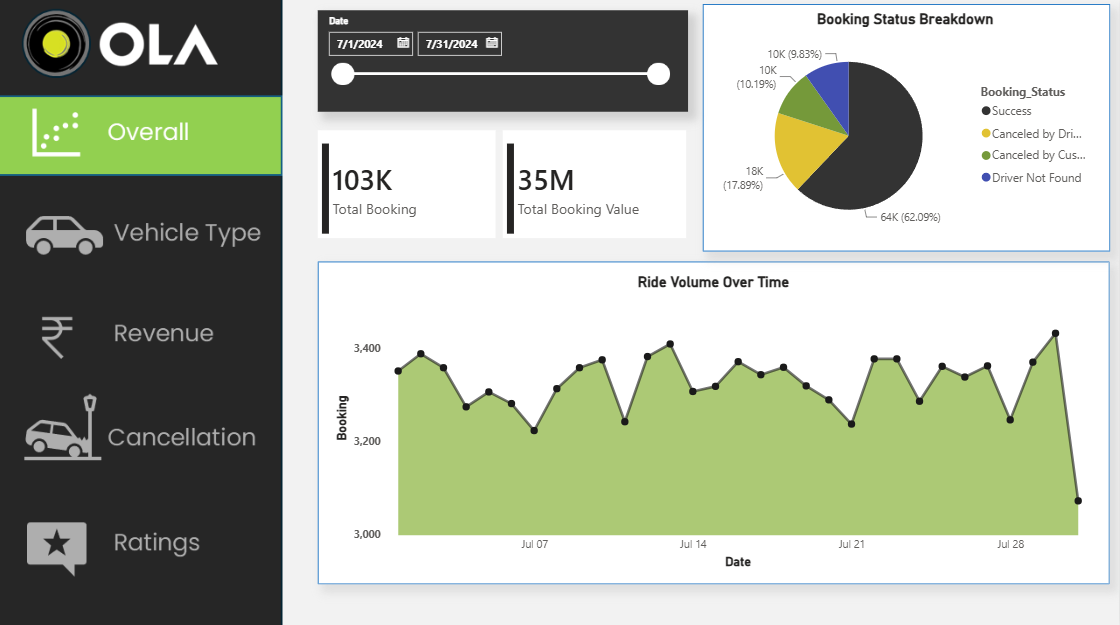

The page's visual inventory and layout, read from the dashboard file:
{"tool":"powerbi","page":{"name":"Overall","canvas":[1280,720],"ordinal":0},"visuals":[{"type":"actionButton","box":[0,220,325.7,94.3],"z":0},{"type":"actionButton","box":[0,342.9,325.7,90],"z":1000},{"type":"actionButton","box":[0,457.1,325.7,90],"z":2000},{"type":"actionButton","box":[0,578.6,325.7,90],"z":3000},{"type":"shape","box":[364,300,905,369],"z":4000},{"type":"lineChart","title":"Ride Volume Over Time","fields":{"Y":["CountNonNull(Bookings.Booking_ID)"],"Category":["Bookings.Date.Variation.Date Hierarchy.Year","Bookings.Date.Variation.Date Hierarchy.Quarter","Bookings.Date.Variation.Date Hierarchy.Month","Bookings.Date.Variation.Date Hierarchy.Day"]},"box":[378,313,876,343],"z":5000},{"type":"shape","box":[804.3,5.7,465.7,282.9],"z":6000},{"type":"pieChart","title":"Booking Status Breakdown","fields":{"Category":["Bookings.Booking_Status"],"Y":["Bookings.Count of booking Status"]},"box":[815.5,12.7,440,268.2],"z":7000},{"type":"slicer","fields":{"Values":["Bookings.Date"]},"box":[364.3,12.9,422.9,115.7],"z":8000},{"type":"cardVisual","fields":{"Data":["Bookings.Count of booking Status"]},"box":[363.6,149.6,203.1,123.5],"z":9000},{"type":"cardVisual","fields":{"Data":["Sum(Bookings.Booking_Value)"]},"box":[576.3,149.6,209.9,123.5],"z":10000}]}

Visuals, with their boxes on the page's 1280x720 design canvas (x1, y1, x2, y2). These are canvas units, not pixel positions in the 1120x625 screenshot, which may show the page scaled, cropped or inside an application window:
actionButton: x1=0, y1=220, x2=326, y2=314
actionButton: x1=0, y1=343, x2=326, y2=433
actionButton: x1=0, y1=457, x2=326, y2=547
actionButton: x1=0, y1=579, x2=326, y2=669
shape: x1=364, y1=300, x2=1269, y2=669
"Ride Volume Over Time" lineChart: x1=378, y1=313, x2=1254, y2=656
shape: x1=804, y1=6, x2=1270, y2=289
"Booking Status Breakdown" pieChart: x1=816, y1=13, x2=1256, y2=281
slicer - Bookings.Date: x1=364, y1=13, x2=787, y2=129
cardVisual - Bookings.Count of booking Status: x1=364, y1=150, x2=567, y2=273
cardVisual - Sum(Bookings.Booking_Value): x1=576, y1=150, x2=786, y2=273
